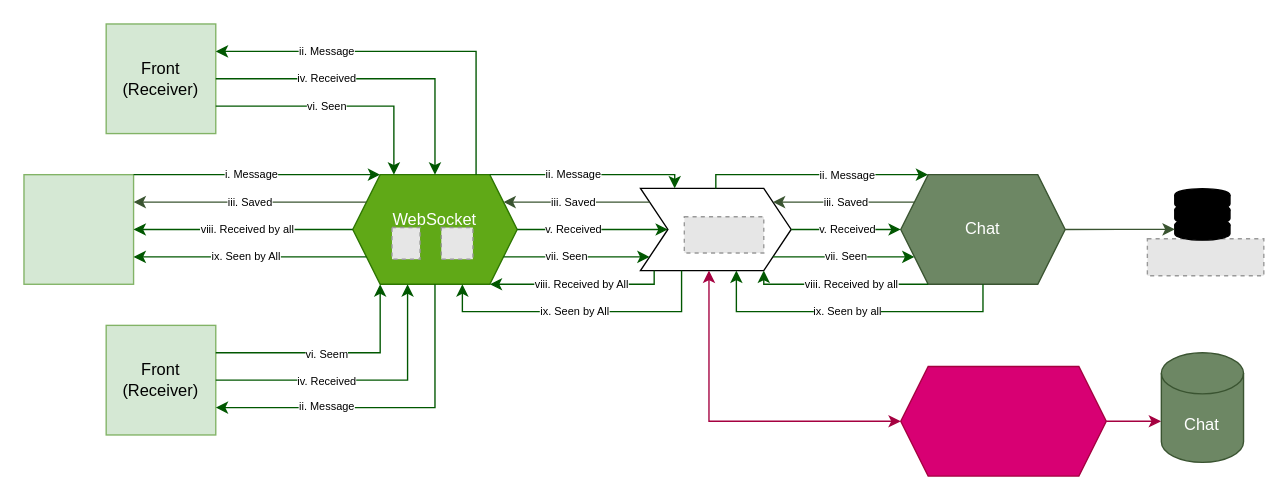
The diagram is 1288 pixels wide and 500 high, and some of its shapes have lost their labels. Grey dashed boxes stand in for pictures. Each missing label, with the centre of its shape:
DB Writer Service (One for every DB) may remove this...: pixel 1002 420
Front ( Sender ): pixel 78 228
